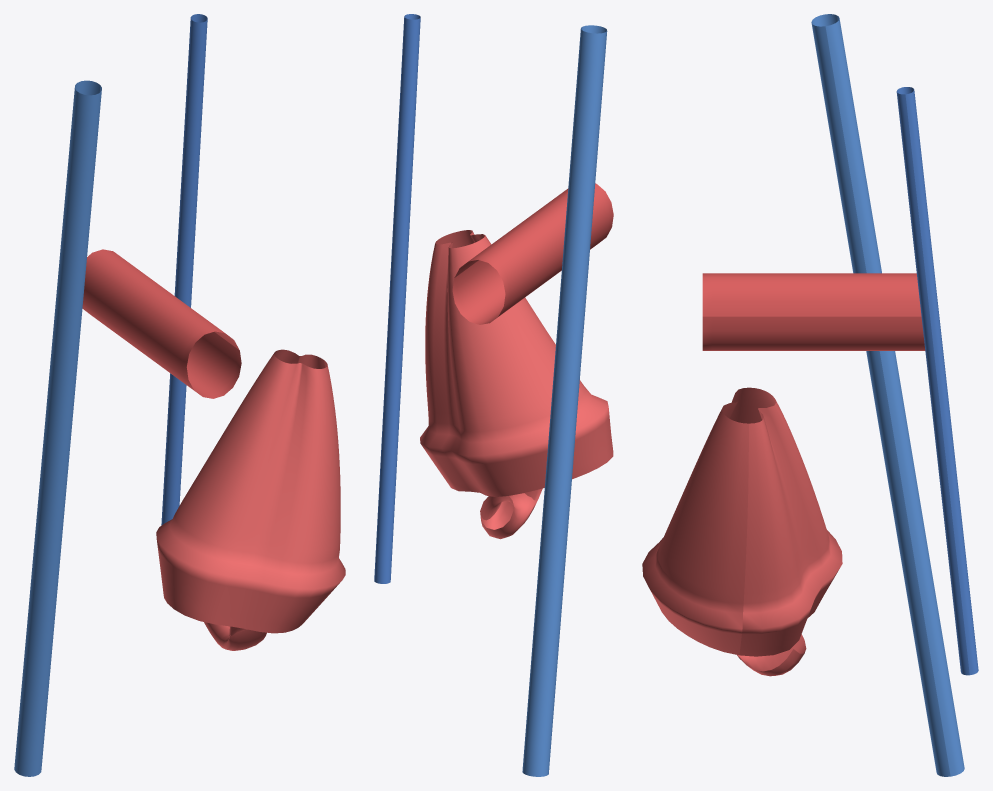
Rendered from cardiovascular.glb.
3 renders of one model, left to right at view 1: azimuth 30°, elevation 25°; view 2: azimuth 150°, elevation 25°; view 3: azimuth 270°, elevation 25°, orthographic. The views are drawn at different scales.
Visible parts, largest first — view 1: Mesh_Canine_Cor, Mesh_Canine_VenaCava, Mesh_Canine_Aorta, Mesh_Canine_VenaAzygosDextra; view 2: Mesh_Canine_Cor, Mesh_Canine_VenaCava, Mesh_Canine_VenaAzygosDextra, Mesh_Canine_Aorta; view 3: Mesh_Canine_Cor, Mesh_Canine_VenaCava, Mesh_Canine_Aorta, Mesh_Canine_VenaAzygosDextra.
Part boxes in pixels (box(x1,y1,x2,y2)): Mesh_Canine_Cor: box(156, 349, 345, 650); Mesh_Canine_VenaCava: box(14, 80, 101, 776); Mesh_Canine_Aorta: box(82, 249, 241, 398); Mesh_Canine_VenaAzygosDextra: box(161, 14, 207, 525); Mesh_Canine_Cor: box(420, 230, 613, 539); Mesh_Canine_VenaCava: box(522, 25, 607, 776); Mesh_Canine_VenaAzygosDextra: box(374, 14, 420, 583); Mesh_Canine_Aorta: box(452, 183, 613, 324); Mesh_Canine_Cor: box(642, 387, 842, 676); Mesh_Canine_VenaCava: box(811, 14, 964, 776); Mesh_Canine_Aorta: box(702, 273, 925, 350); Mesh_Canine_VenaAzygosDextra: box(896, 87, 978, 675).
Bounding box in the file's own units: 0.2627 × 0.8442 × 0.3394.
